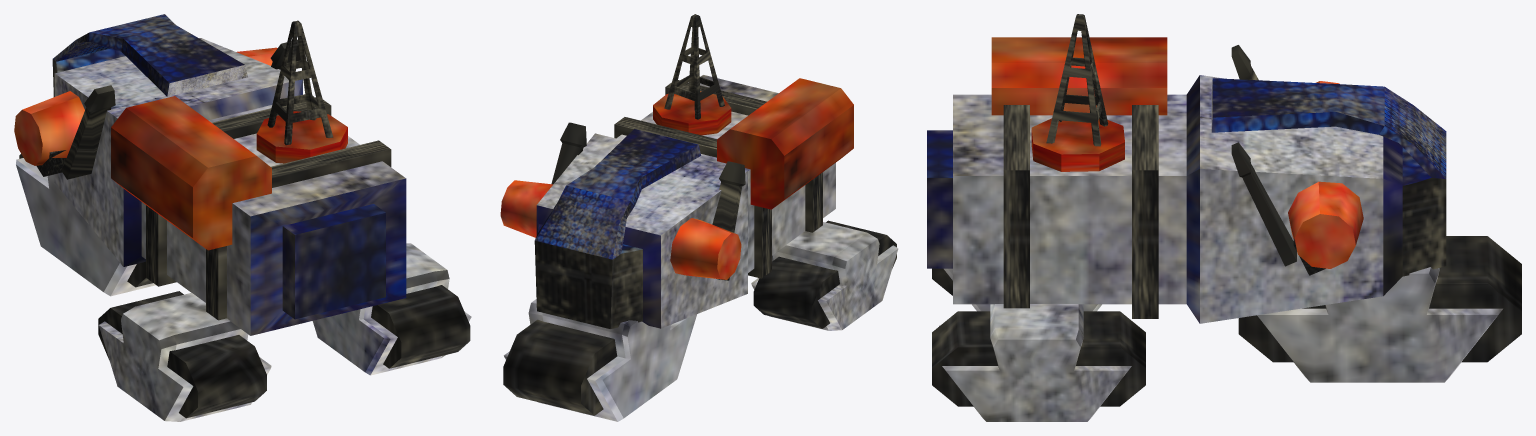
File: Mobile Bace.fbx
3 views of the same model, side by side, from view 1: azimuth 30°, elevation 25°; view 2: azimuth 150°, elevation 25°; view 3: azimuth 270°, elevation 25° (orthographic). The views are drawn at different scales.
Parts seen in each view (by area): view 1: mobile_bace; view 2: mobile_bace; view 3: mobile_bace.
Boxes of the visible parts, box(x1,y1,x2,y2) form: mobile_bace: box(14, 14, 471, 421); mobile_bace: box(500, 14, 898, 421); mobile_bace: box(927, 14, 1521, 421).
Size of the model in its own units: 95.14 by 105 by 159.
1 material, 1 textured.
